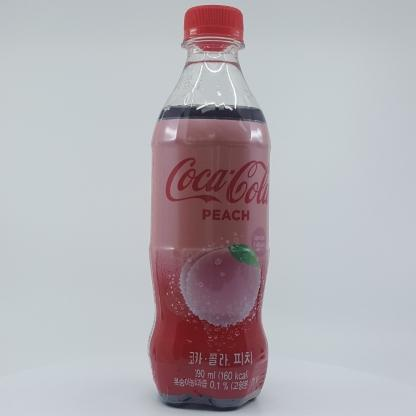-----------390ML: (147, 5, 271, 410)
